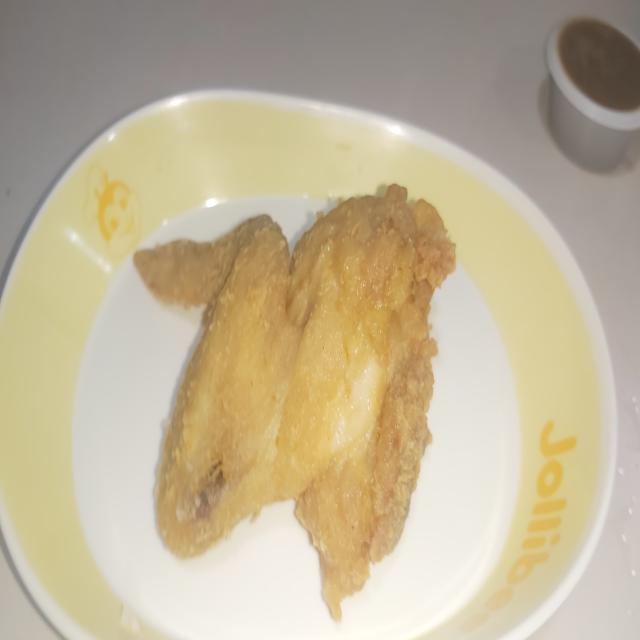Chicken -Fried Chicken-: (126, 174, 460, 622)
